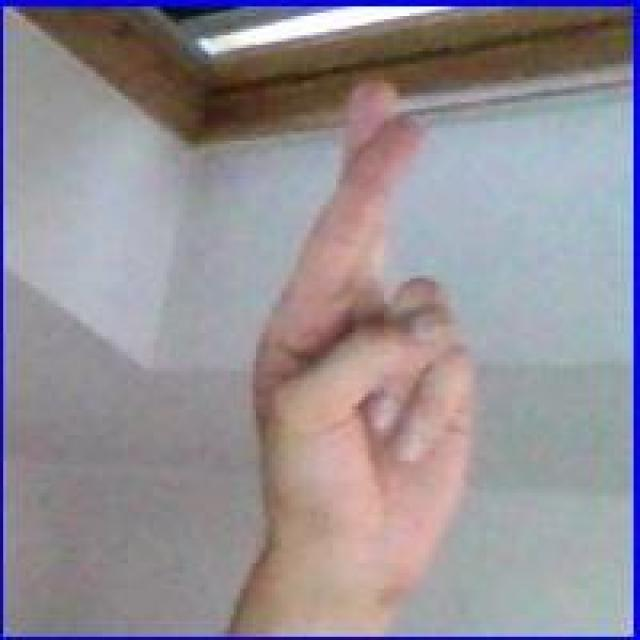R: (248, 70, 482, 573)
